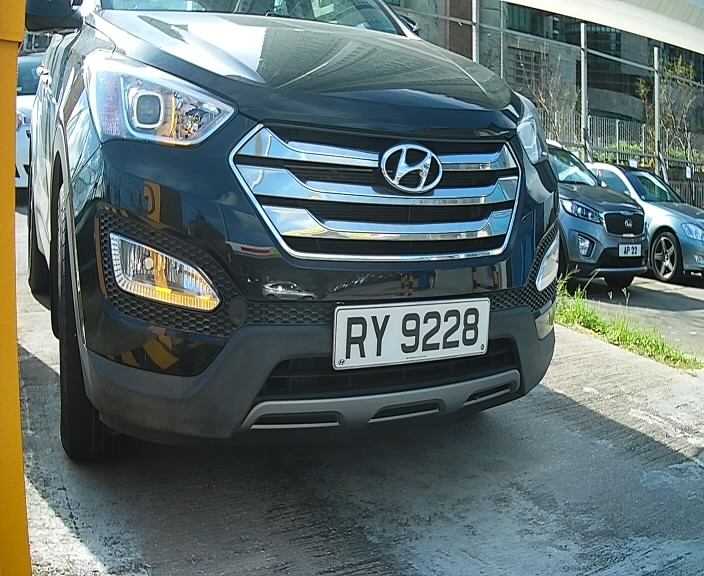Car: (8, 2, 585, 468)
License Plate: (325, 295, 496, 377)
